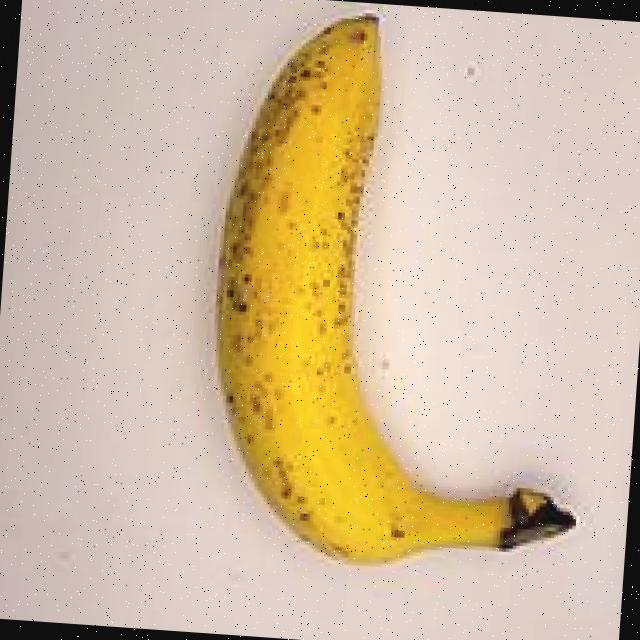Overripe: (141, 0, 620, 604)
